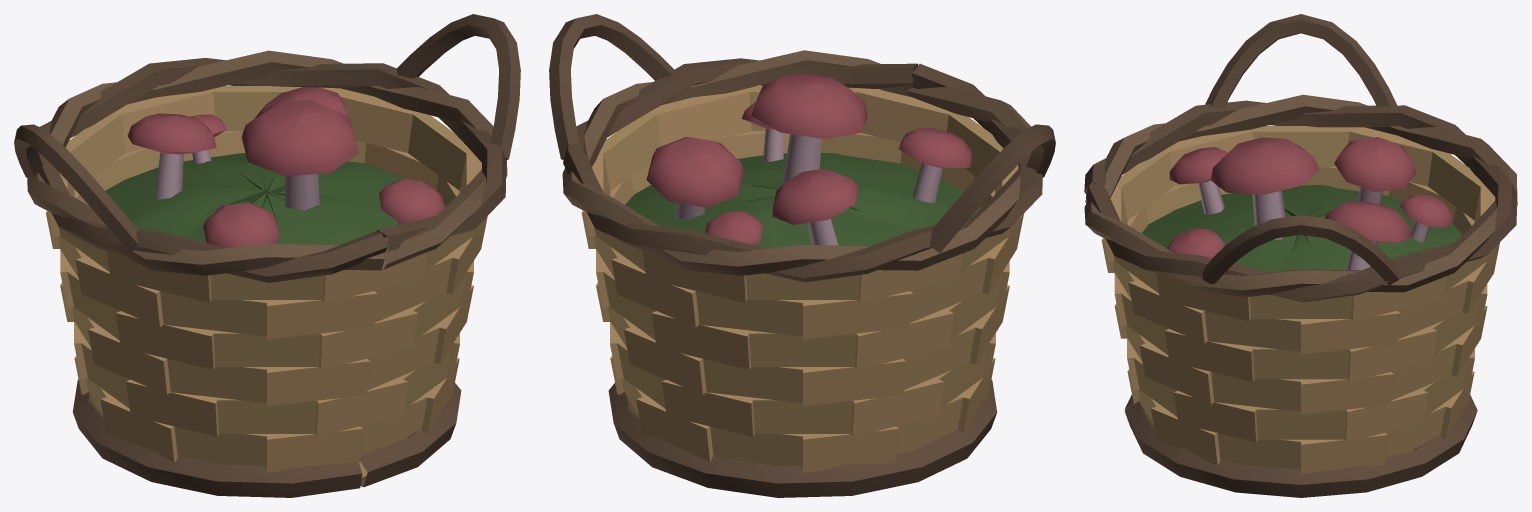
Rendered from SM_LPD_Crate_BasketRound_01.fbx.
3 views of the same model, side by side, from view 1: azimuth 30°, elevation 25°; view 2: azimuth 150°, elevation 25°; view 3: azimuth 270°, elevation 25° (orthographic). The views are drawn at different scales.
Visible parts, largest first — view 1: SM_LPD_Crate_BasketRound_01; view 2: SM_LPD_Crate_BasketRound_01; view 3: SM_LPD_Crate_BasketRound_01.
Boxes of the visible parts, x1,y1,x2,y2 form: SM_LPD_Crate_BasketRound_01: (14, 14, 520, 497); SM_LPD_Crate_BasketRound_01: (549, 14, 1055, 497); SM_LPD_Crate_BasketRound_01: (1084, 14, 1517, 497).
Size of the model in its own units: 0.5229 by 0.366 by 0.4588.
